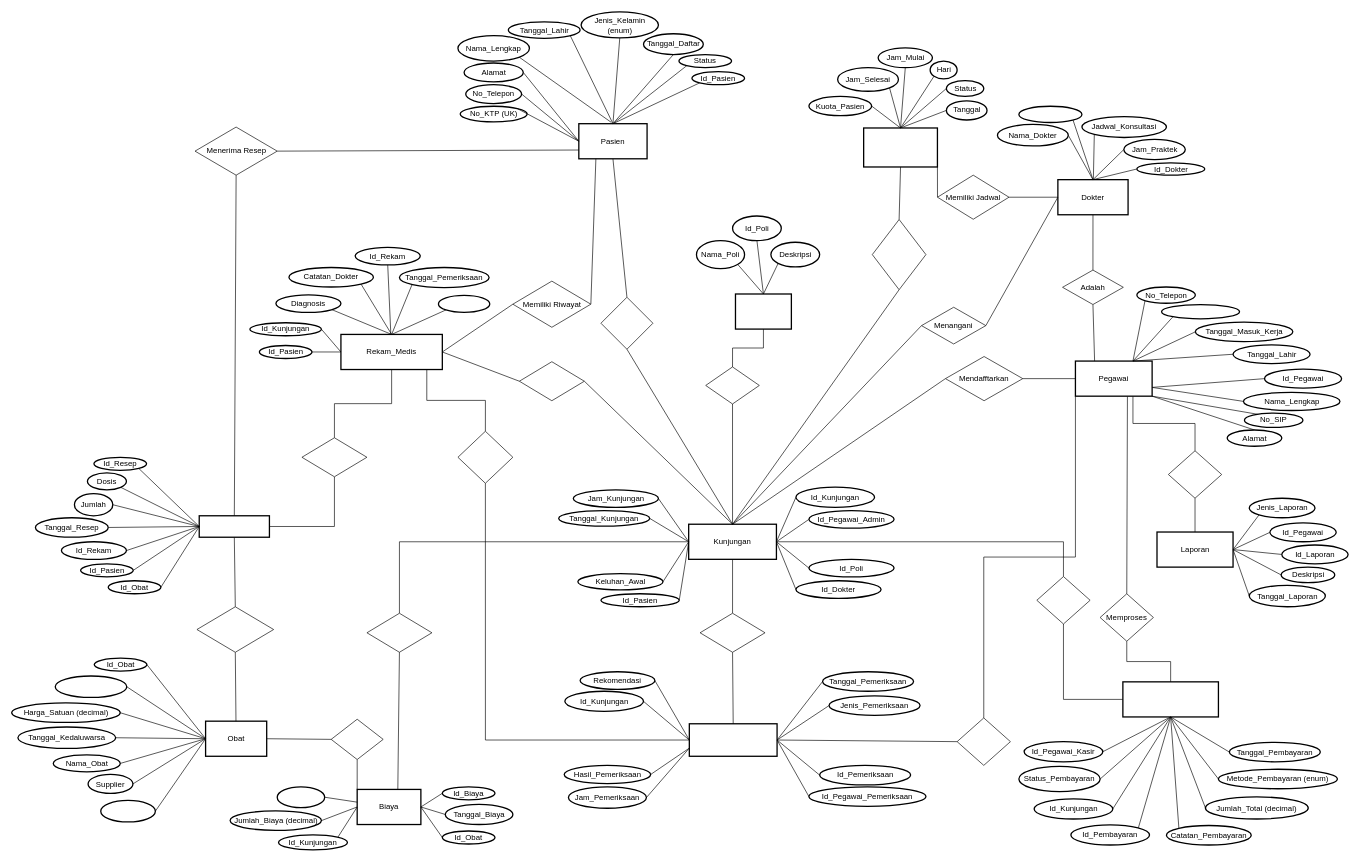
The diagram is 1360 pixels wide and 862 high, and some of its shapes have lost their labels. Each missing label, with the centre of its shape:
"Berdasarkan Hasil" belongs at point (485, 457).
"Dibayar melalui" belongs at point (1063, 600).
"Dijadwalkan Pada" belongs at point (899, 254).
"Direspkan 1:N, M:N" belongs at point (235, 629).
"Jabatan (enum)" belongs at point (1200, 311).
"Jadwal_Praktik" belongs at point (900, 147).
"Jenis_Biaya" belongs at point (300, 797).
"Jenis_Obat" belongs at point (128, 811).
"Kontribusi" belongs at point (357, 739).
"Mambuat" belongs at point (1195, 474).
"Melakukan" belongs at point (983, 741).
"Melibatkan" belongs at point (732, 632).
"Memiliki" belongs at point (626, 323).
"Menghasilakan" belongs at point (551, 381).
"Menghasilkan" belongs at point (399, 632).
"Meresepkan" belongs at point (334, 457).
"Pembayaran" belongs at point (1170, 699).
"Pemeriksaan" belongs at point (732, 740).
"Poli" belongs at point (763, 311).
"Resep_Obat" belongs at point (234, 526).
"Spesialisasi" belongs at point (1050, 114).
"Stok_Tersedia" belongs at point (90, 686).
"Terapi" belongs at point (463, 303).
"Terdaftar" belongs at point (732, 385).
